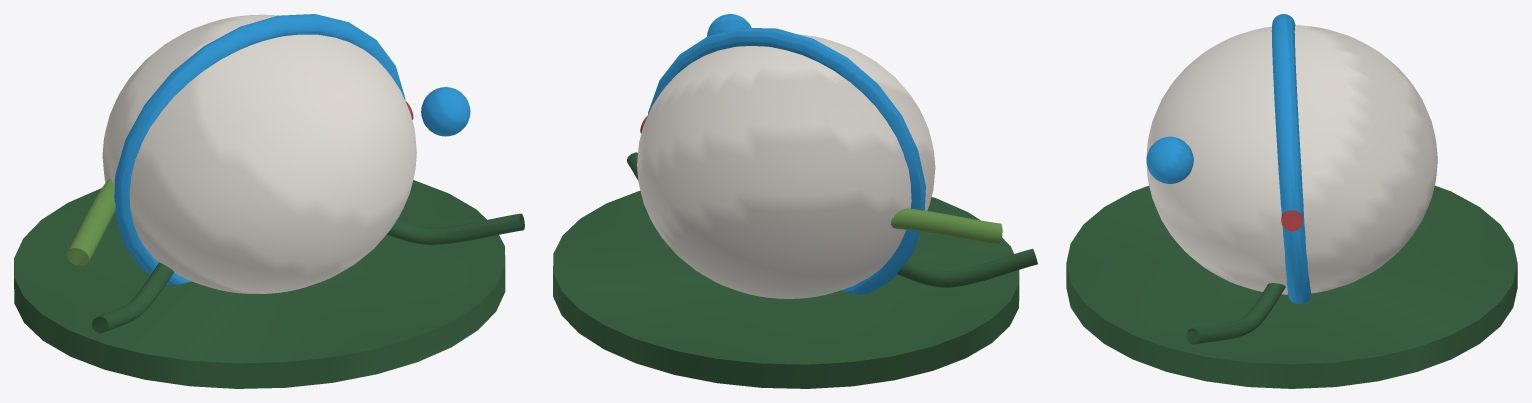
File: 0437_微生物图鉴_生物滤池.glb
3 views of the same model, side by side, from view 1: azimuth 30°, elevation 25°; view 2: azimuth 150°, elevation 25°; view 3: azimuth 270°, elevation 25° (orthographic). The views are drawn at different scales.
Parts seen in each view (by area): view 1: card_0437; view 2: card_0437; view 3: card_0437.
Boxes of the visible parts, box(x1,y1,x2,y2) form: card_0437: box(14, 14, 524, 388); card_0437: box(553, 14, 1037, 388); card_0437: box(1066, 14, 1517, 388).
Bounding box in the file's own units: 1.65 × 1 × 1.55.
